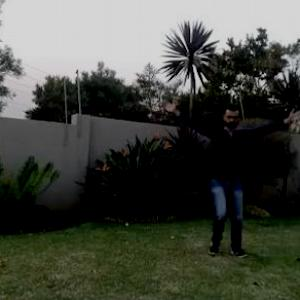takeoff: (158, 99, 299, 256)
